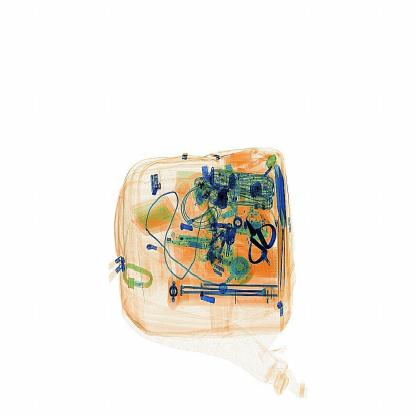gun: (235, 210, 280, 274)
